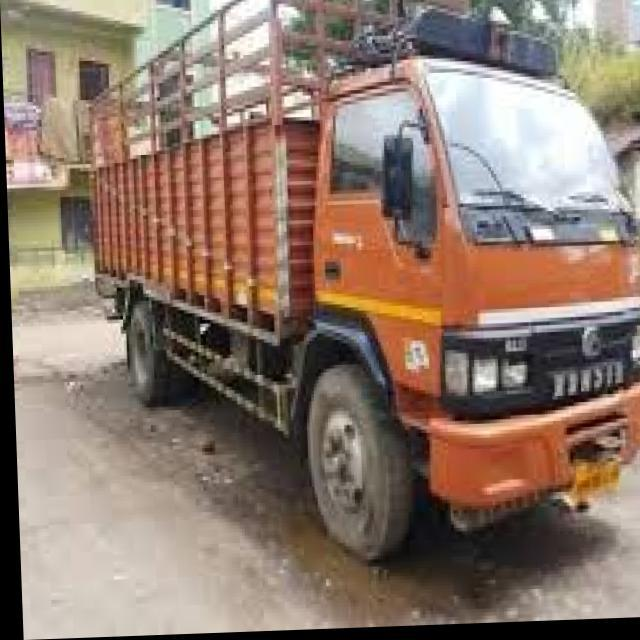uncovered: (77, 0, 640, 549)
